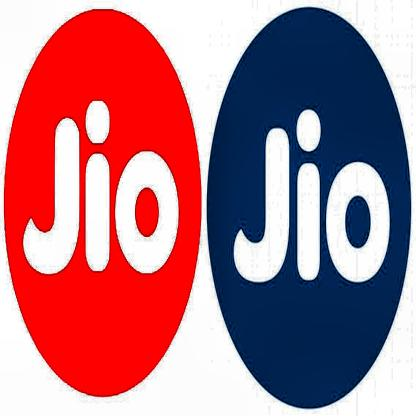Jio: (208, 6, 411, 407), (5, 10, 203, 396)
